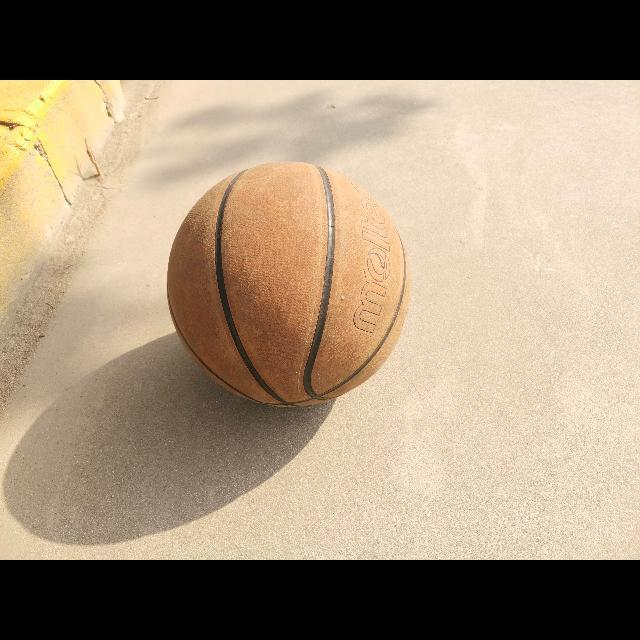basketball: (168, 162, 410, 406)
